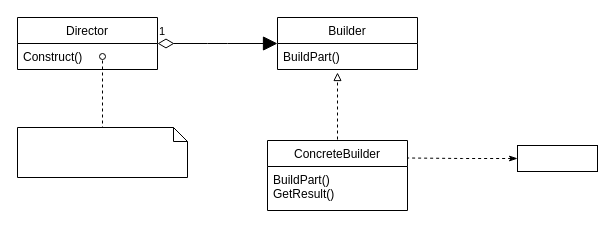
This 615x231 diagram has some shape labels left out. The shapes that lost their labels are listed below. From the top down, each one's centre as x and y in pixels, then its label:
At point (102, 152): "for all objects in structure { builder -> BuildPart() }".
At point (557, 158): "Product".
